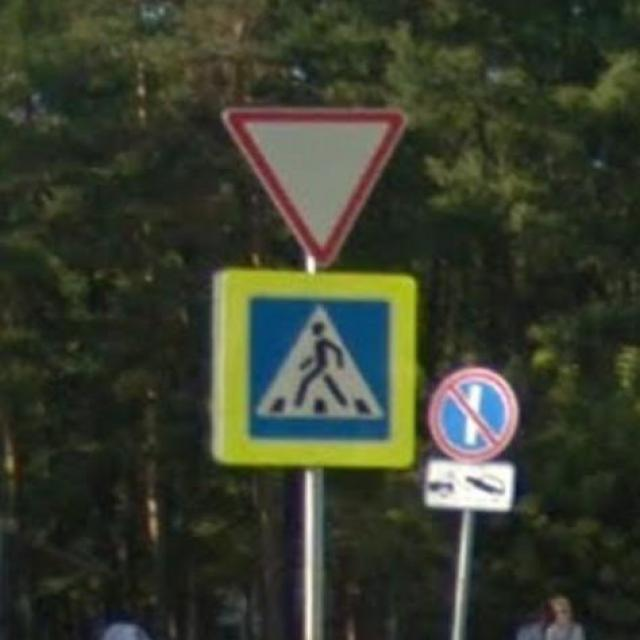traffic_sign: (206, 266, 422, 475), (220, 102, 408, 268)
